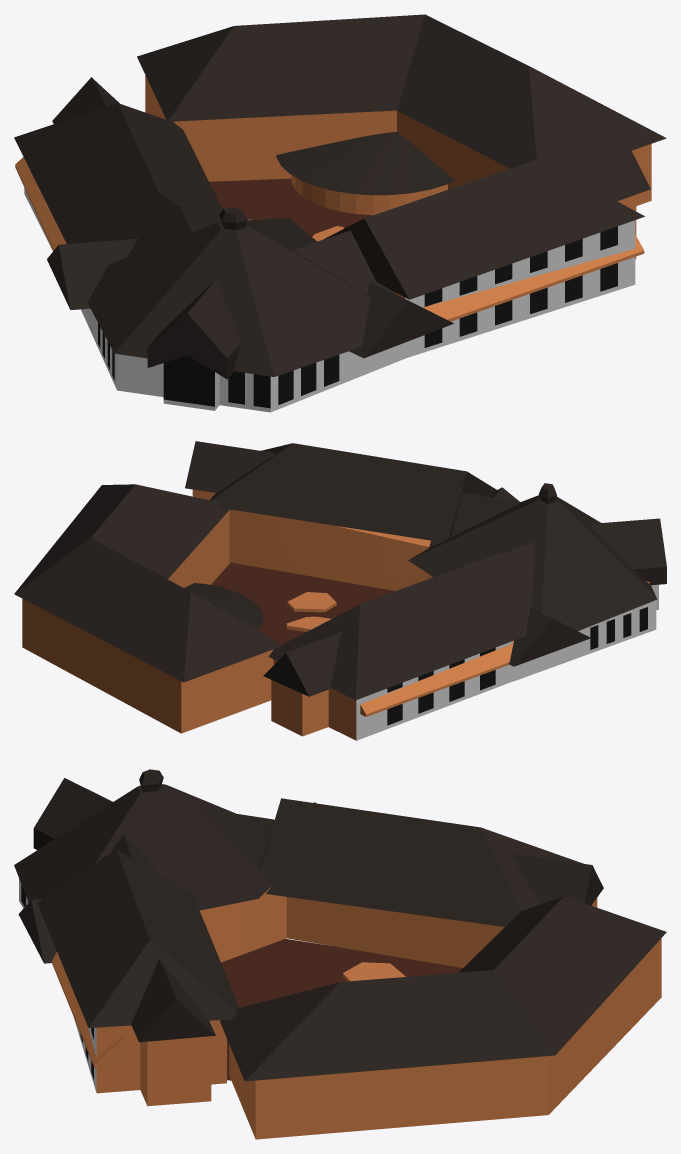
The model's file is talbothouse_model_published.obj.
3 renders of one model, top to bottom at view 1: azimuth 30°, elevation 25°; view 2: azimuth 150°, elevation 25°; view 3: azimuth 270°, elevation 25°, orthographic. The views are drawn at different scales.
Visible parts, largest first — view 1: Cylinder.001; view 2: Cylinder.001; view 3: Cylinder.001.
Boxes of the visible parts, <box> form: Cylinder.001: <box>14,14,666,412</box>; Cylinder.001: <box>14,441,666,740</box>; Cylinder.001: <box>14,769,666,1139</box>.
Bounding box in the file's own units: 66.22 × 15.61 × 63.23.
